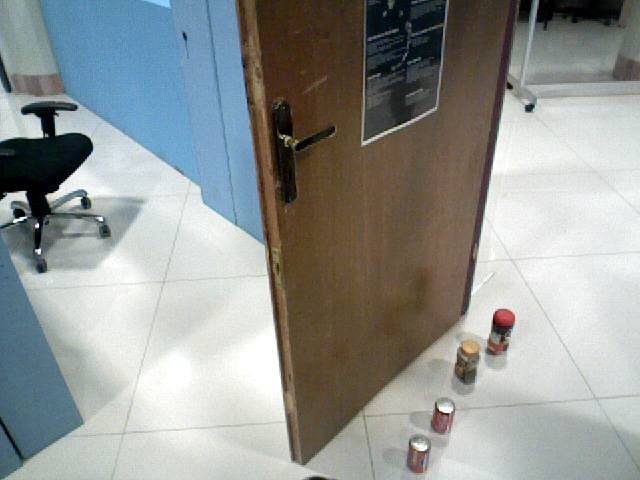coca: (430, 398, 454, 437)
coffee: (453, 340, 481, 386)
cream: (490, 307, 512, 355)
door_handle: (264, 94, 336, 205)
fanta: (406, 434, 432, 474)
